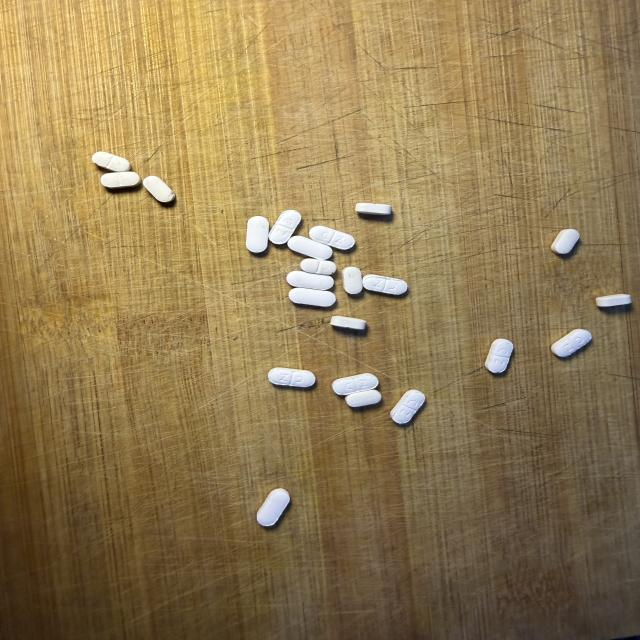pill: (257, 488, 290, 526), (391, 390, 425, 424), (551, 329, 591, 357), (269, 210, 301, 244), (287, 236, 332, 260), (309, 226, 354, 249), (332, 374, 378, 395), (485, 339, 513, 373), (268, 368, 315, 387), (363, 275, 407, 295), (287, 271, 333, 290), (246, 216, 269, 253), (143, 176, 175, 202), (289, 288, 335, 306), (92, 152, 130, 172), (551, 229, 579, 254), (101, 172, 140, 188), (346, 390, 381, 407), (342, 267, 362, 294), (301, 259, 336, 274), (331, 316, 366, 329), (596, 294, 631, 307), (355, 203, 391, 215)
